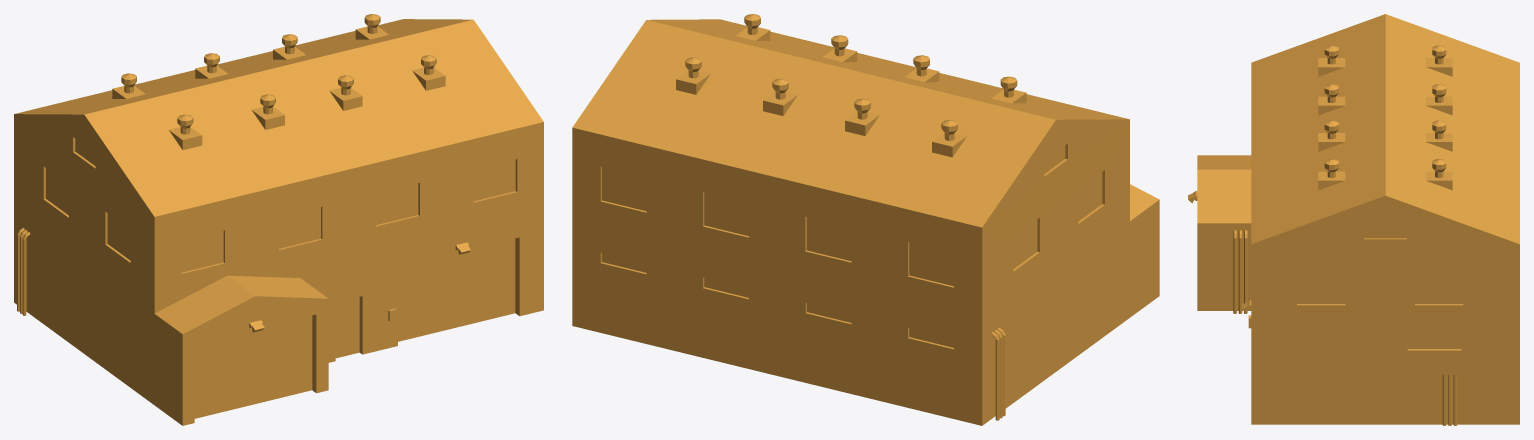
The model's file is industry-building.fbx.
3 views of the same model, side by side, from view 1: azimuth 30°, elevation 25°; view 2: azimuth 150°, elevation 25°; view 3: azimuth 270°, elevation 25° (orthographic). The views are drawn at different scales.
Parts seen in each view (by area): view 1: industry-building; view 2: industry-building; view 3: industry-building.
Part boxes in pixels (x1=…): industry-building: x1=14, y1=14, x2=543, y2=425; industry-building: x1=572, y1=14, x2=1159, y2=425; industry-building: x1=1188, y1=14, x2=1519, y2=425.
Bounding box in the file's own units: 16.41 × 9.49 × 12.35.
